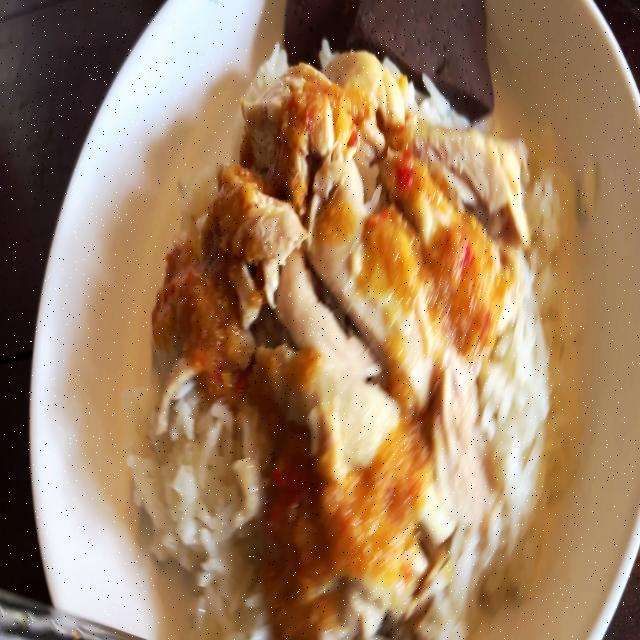boiled_chicken: (177, 71, 502, 567)
boiled_chicken_blood_jelly: (279, 0, 496, 116)
chicken_rice: (130, 0, 590, 640)
